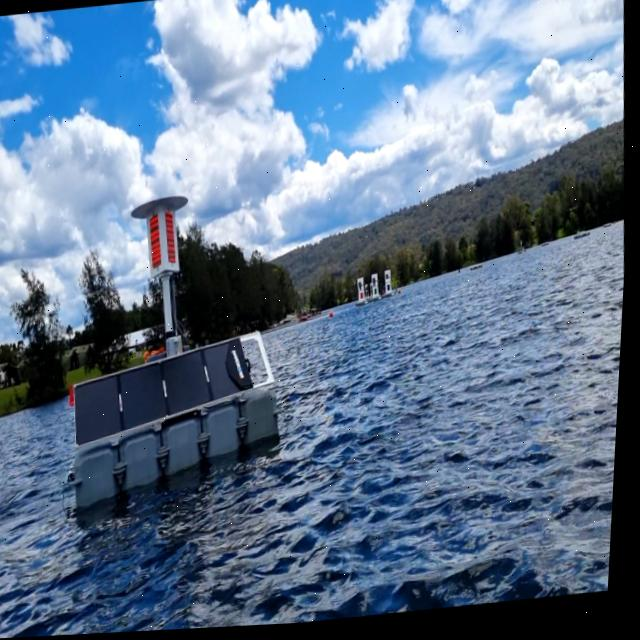led: (164, 212, 182, 269), (150, 218, 167, 271)
